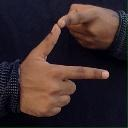hand: (18, 22, 109, 117), (56, 3, 119, 49)
